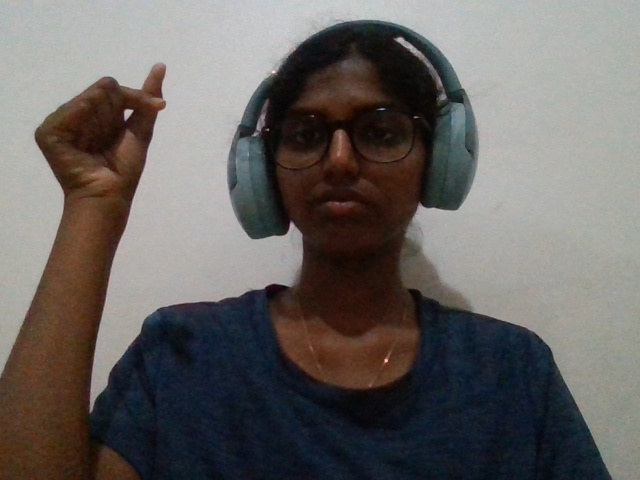G: (23, 44, 188, 333)
